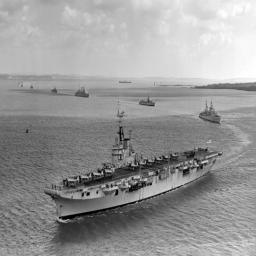Portanaves: (44, 116, 227, 226)
